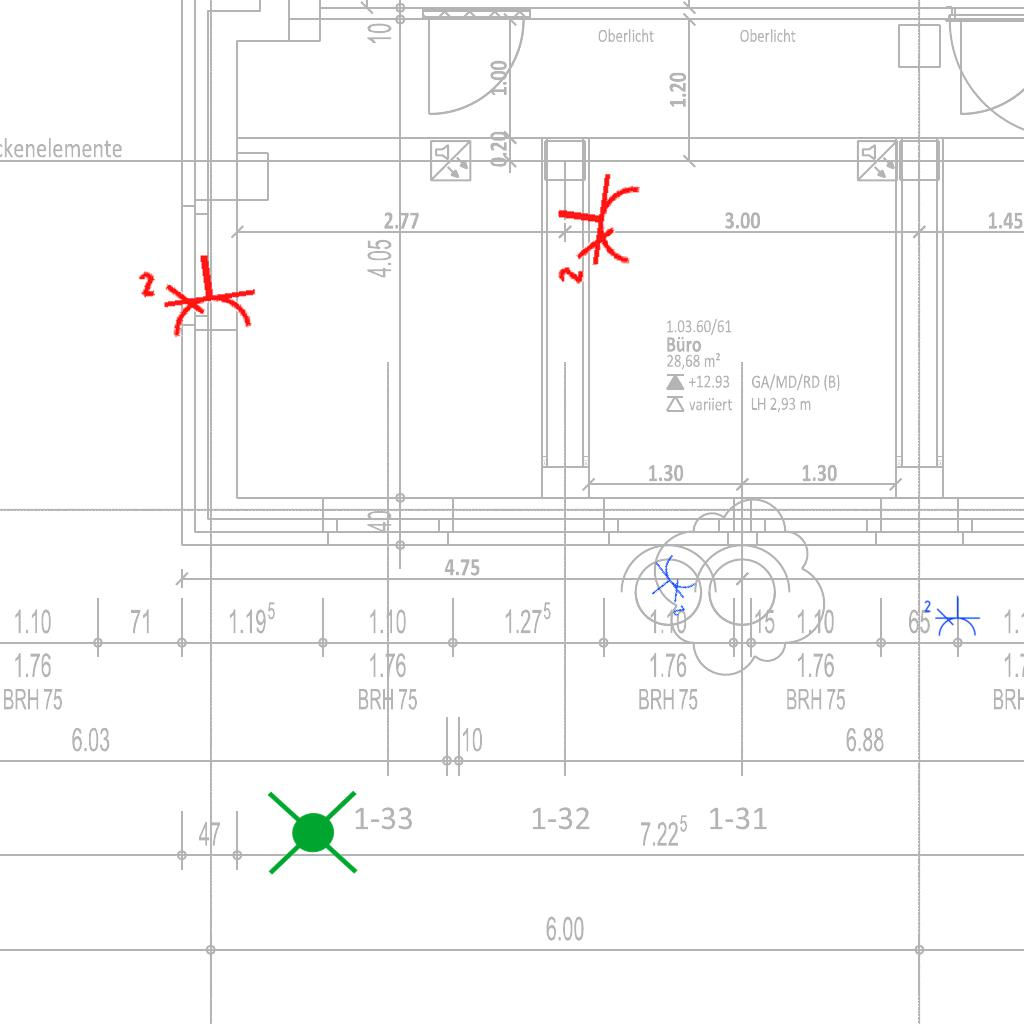Notlichtbaustein_in_Allgemeinbeleuchtug_engebaut_Einbau_(1UG_und_2UG_Aufbauvaria: (263, 780, 363, 883)
Schukosteckdose_mehrfach: (542, 161, 647, 295), (133, 242, 266, 346), (637, 548, 709, 624), (921, 595, 981, 639)
